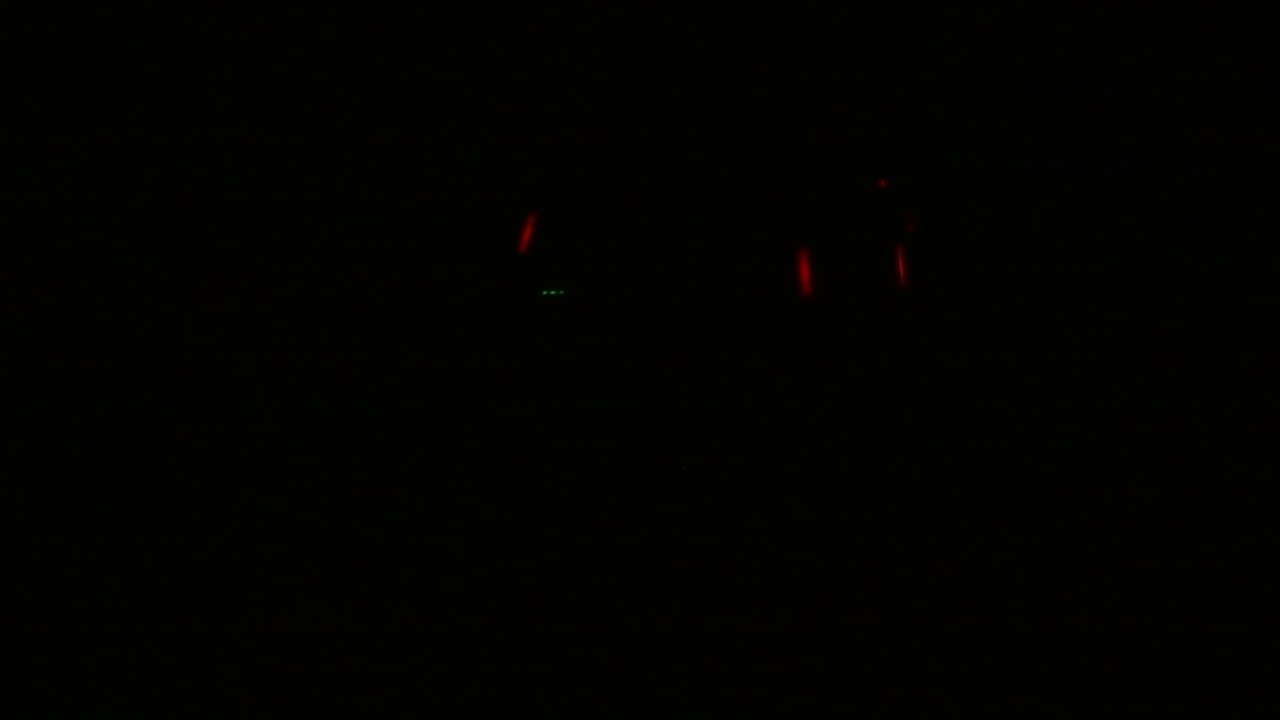pair1: (783, 243, 911, 293)
